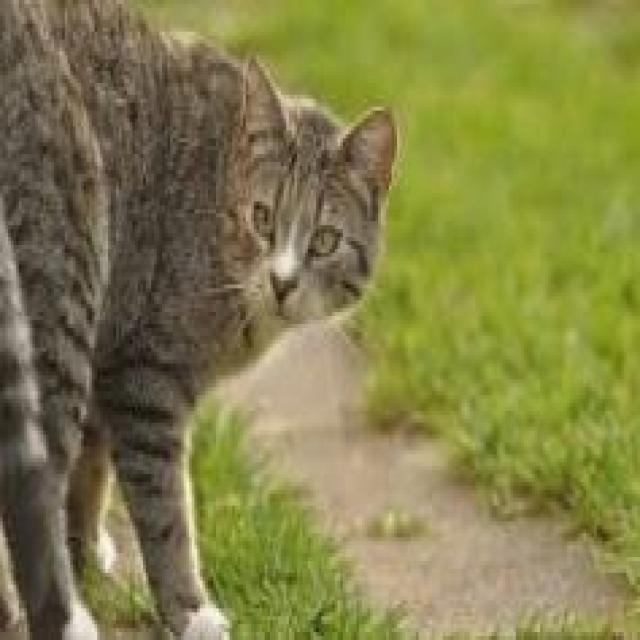Gato: (0, 0, 400, 640)
